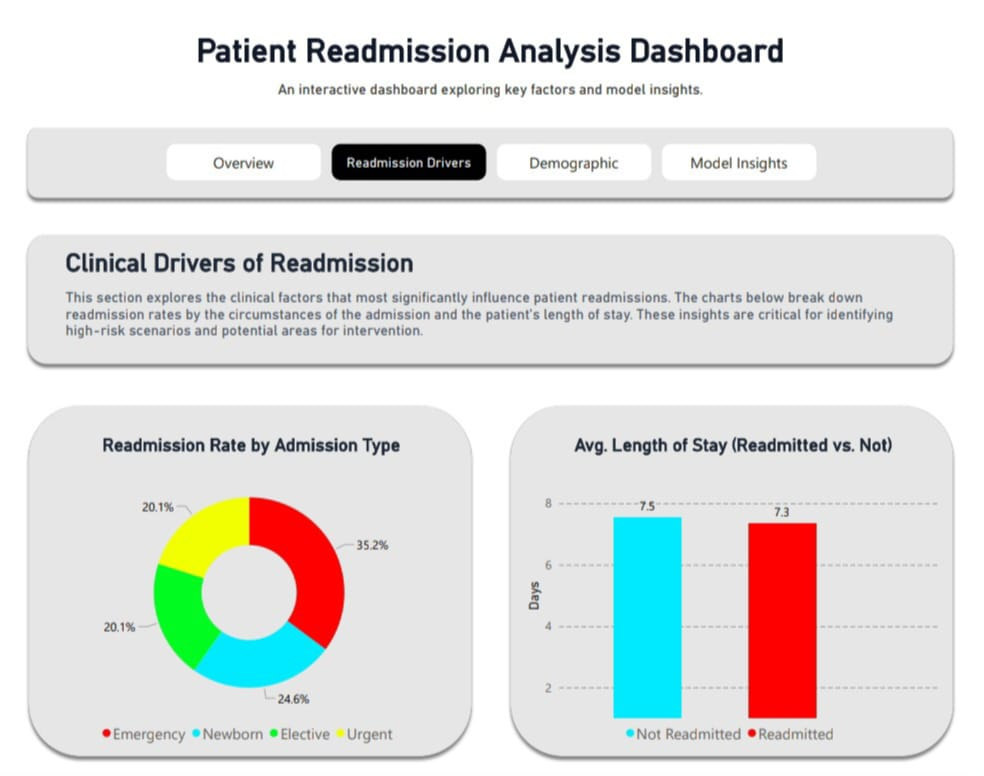

What the dashboard file says about the page in this screenshot:
{"tool":"powerbi","page":{"name":"Readmission Drivers","canvas":[1280,1000],"ordinal":1},"visuals":[{"type":"textbox","box":[11.4,15.6,1254.4,125.2],"z":0},{"type":"shape","box":[11.4,140.8,1255.8,110.9],"z":1000},{"type":"shape","box":[11.4,284.4,1255.8,190.6],"z":2000},{"type":"pageNavigator","box":[204.8,170.7,870.4,49.8],"z":3000},{"type":"textbox","box":[65.4,305.8,1150.6,147.9],"z":4000},{"type":"shape","box":[12.1,513.1,610,487.2],"z":5000},{"type":"textbox","box":[69.1,556.3,499.3,41.5],"z":6000},{"type":"shape","box":[656.5,513.1,609.9,487.2],"z":7000},{"type":"textbox","box":[713.5,556.3,499.3,41.5],"z":8000},{"type":"donutChart","fields":{"Category":["healthcare_dataset.admission_type"],"Y":["Sum(healthcare_dataset.is_readmitted)"]},"box":[34.6,597.8,561.5,385.3],"z":9000},{"type":"clusteredColumnChart","fields":{"Category":["healthcare_dataset.Readmission Status"],"Y":["healthcare_dataset.Average Length of Stay"],"Series":["healthcare_dataset.Readmission Status"]},"box":[680.7,597.8,561.5,385.3],"z":10000}]}

Visuals, with their boxes on the page's 1280x1000 design canvas (x1, y1, x2, y2). These are canvas units, not pixel positions in the 984x776 screenshot, which may show the page scaled, cropped or inside an application window:
textbox: 11:16:1266:141
shape: 11:141:1267:252
shape: 11:284:1267:475
pageNavigator: 205:171:1075:220
textbox: 65:306:1216:454
shape: 12:513:622:1000
textbox: 69:556:568:598
shape: 656:513:1266:1000
textbox: 714:556:1213:598
donutChart - healthcare_dataset.admission_type x Sum(healthcare_dataset.is_readmitted): 35:598:596:983
clusteredColumnChart - healthcare_dataset.Readmission Status x healthcare_dataset.Average Length of Stay: 681:598:1242:983
